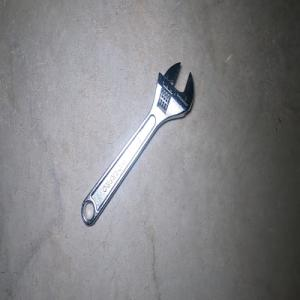Wrench: (81, 61, 193, 226)
